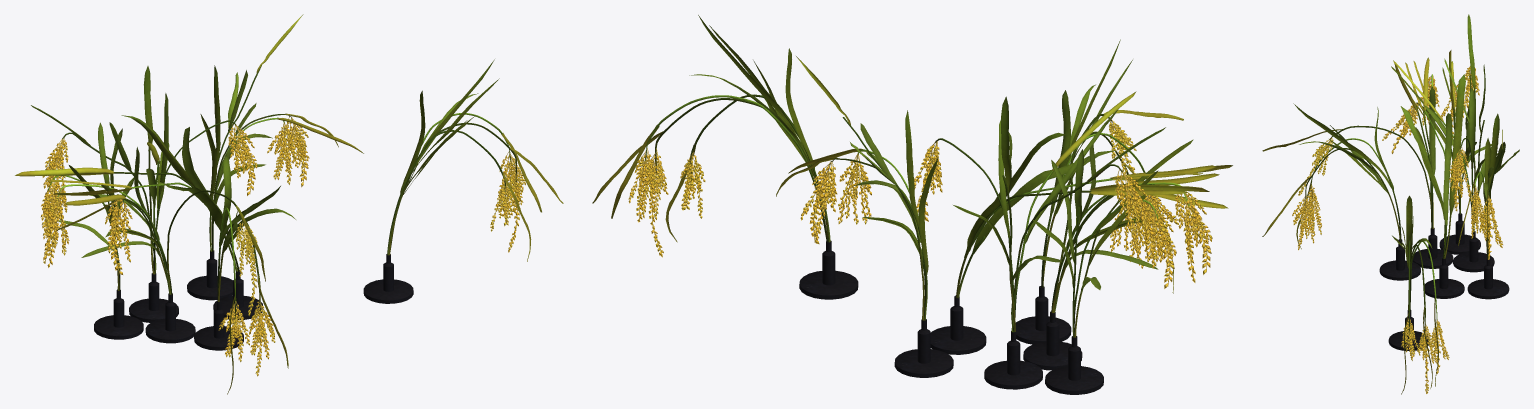
The model's file is SM_Rice.fbx.
3 renders of one model, left to right at view 1: azimuth 30°, elevation 25°; view 2: azimuth 150°, elevation 25°; view 3: azimuth 270°, elevation 25°, orthographic. The views are drawn at different scales.
Parts seen in each view (by area): view 1: SM_Rice_LOD0; view 2: SM_Rice_LOD0; view 3: SM_Rice_LOD0.
Part boxes in pixels (box(x1,y1,x2,y2)): SM_Rice_LOD0: box(15, 14, 563, 394); SM_Rice_LOD0: box(592, 15, 1232, 394); SM_Rice_LOD0: box(1262, 14, 1519, 394).
Size of the model in its own units: 114 by 49.81 by 57.56.
Materials: 1 (1 with a texture image).
